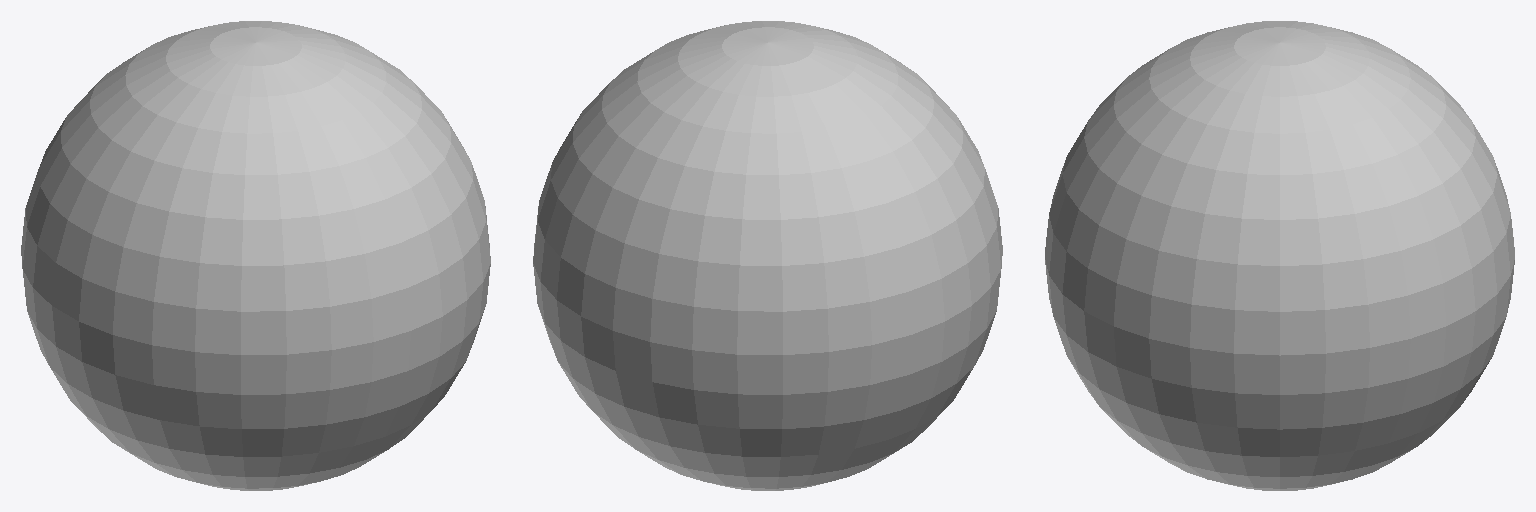
Rendered from gem_type_0.obj.
3 views of the same model, side by side, from view 1: azimuth 30°, elevation 25°; view 2: azimuth 150°, elevation 25°; view 3: azimuth 270°, elevation 25° (orthographic).
Parts seen in each view (by area): view 1: gem_type_0; view 2: gem_type_0; view 3: gem_type_0.
Part boxes in pixels (bbox=[...]): gem_type_0: bbox=[21, 21, 490, 490]; gem_type_0: bbox=[533, 21, 1002, 490]; gem_type_0: bbox=[1045, 21, 1514, 490].
Bounding box in the file's own units: 0.76 × 0.76 × 0.76.